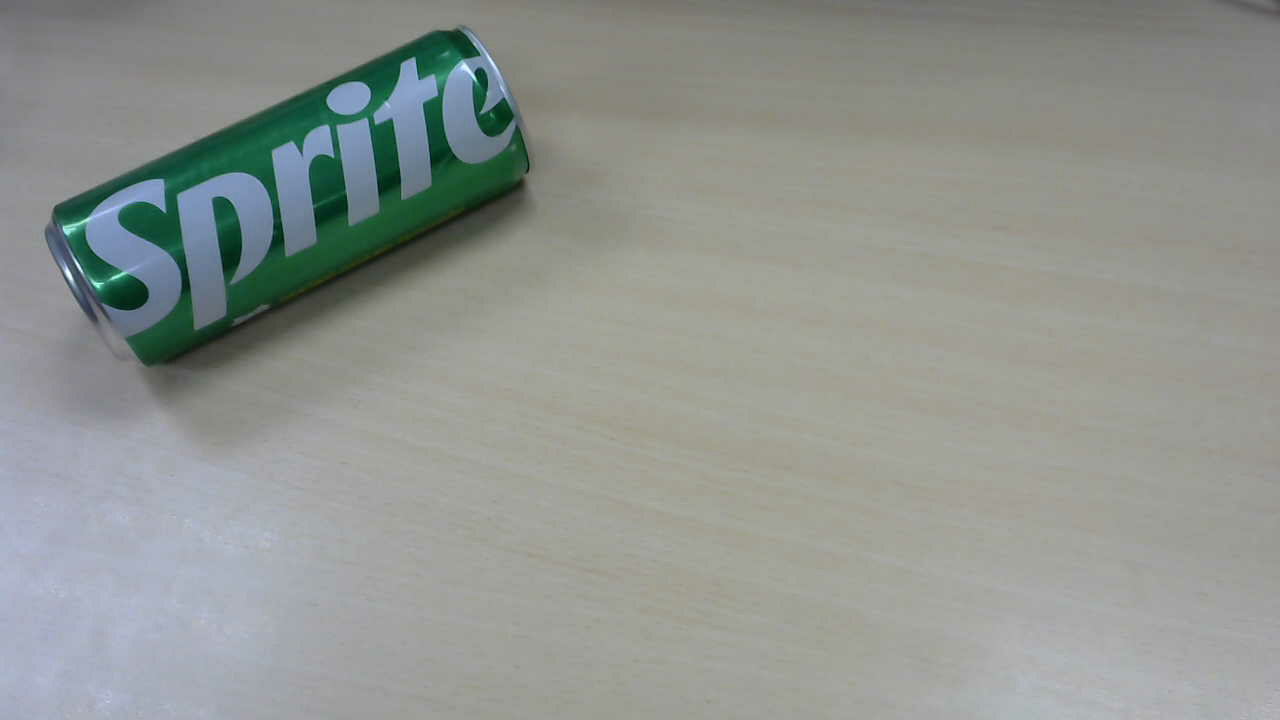Sprite: (51, 26, 536, 373)
